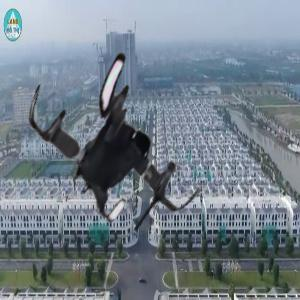drone: (22, 33, 228, 239)
